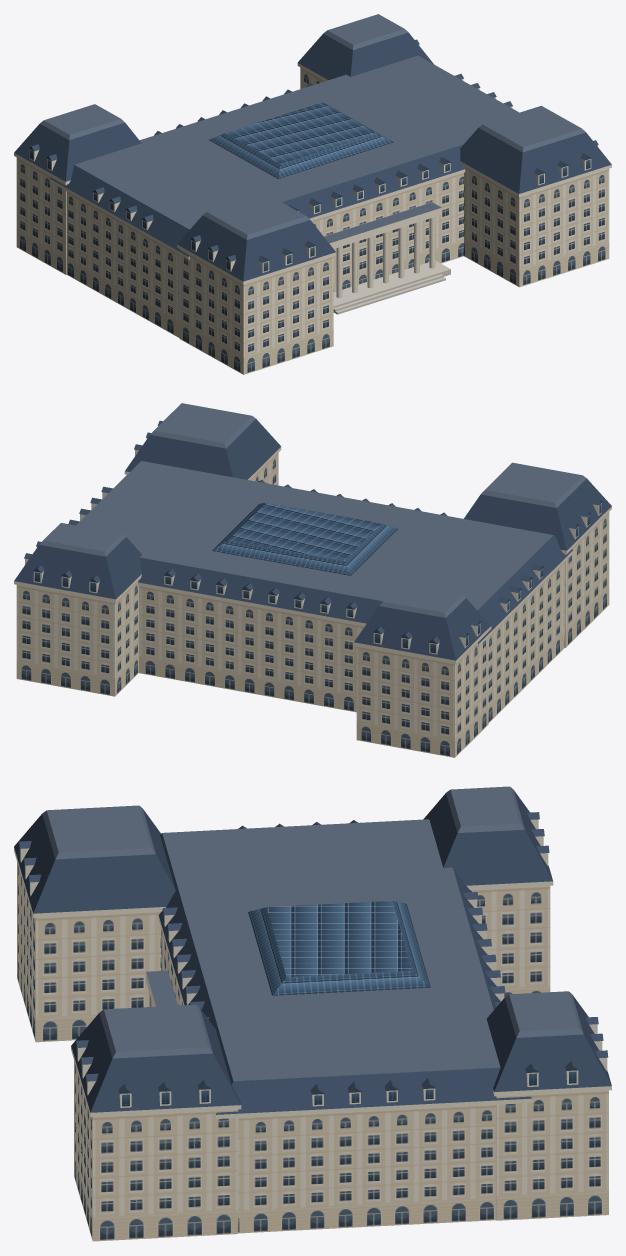
File: tushuguan.glb
3 views of the same model, one above another, from view 1: azimuth 30°, elevation 25°; view 2: azimuth 150°, elevation 25°; view 3: azimuth 270°, elevation 25° (orthographic). The views are drawn at different scales.
Parts seen in each view (by area): view 1: 图书馆_屋顶, 图书馆_主体; view 2: 图书馆_屋顶, 图书馆_主体; view 3: 图书馆_屋顶, 图书馆_主体.
Boxes of the visible parts, left/top/right/bottom form: 图书馆_屋顶: left=14, top=14, right=611, bottom=281; 图书馆_主体: left=14, top=63, right=611, bottom=374; 图书馆_屋顶: left=14, top=403, right=611, bottom=660; 图书馆_主体: left=14, top=447, right=611, bottom=757; 图书馆_屋顶: left=14, top=786, right=611, bottom=1114; 图书馆_主体: left=14, top=847, right=611, bottom=1241.
Size of the model in its own units: 104 by 29.3 by 89.69.
Materials: 6 (3 with a texture image).
